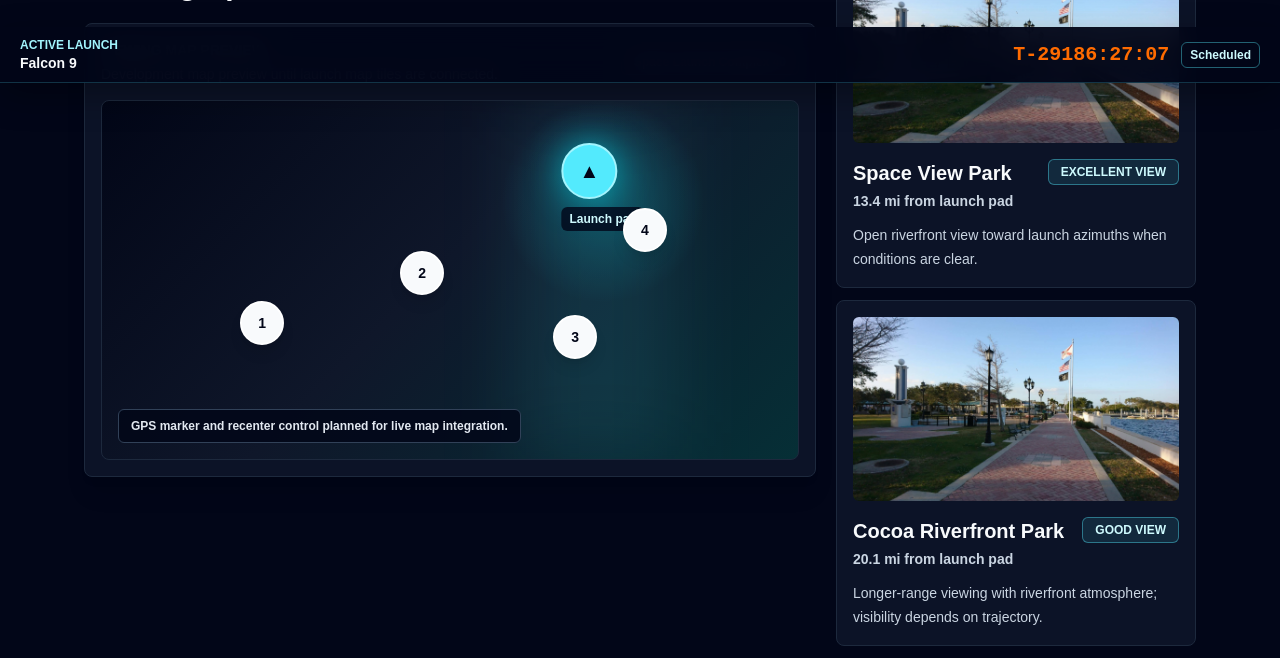
Scenario: LaunchesPage › opens and closes the viewing spot drawer
(page scrolled)
Click the button named "Select viewing spot Space View Park". click: x=262, y=323
box: [240, 301, 284, 345]
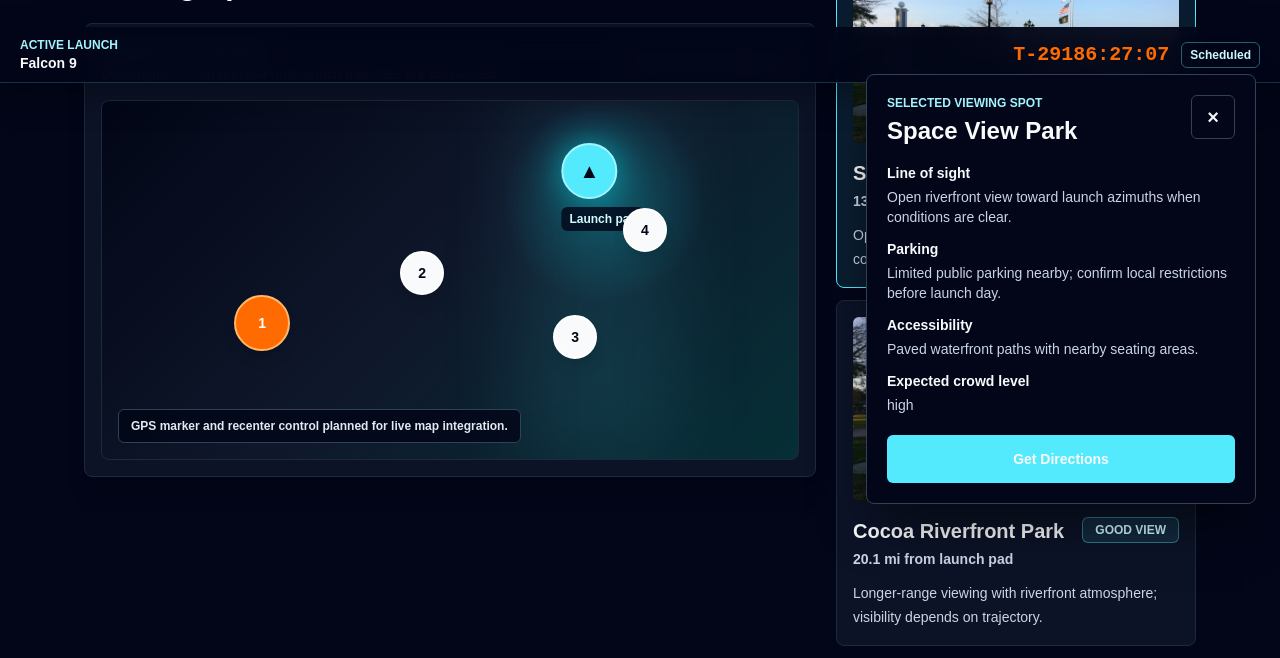
expect the dialog named "Space View Park viewing spot details" is shown: met, box [866, 74, 1256, 504]
Click the button named "Close viewing spot details". click: x=1213, y=117
box: [1191, 95, 1235, 139]
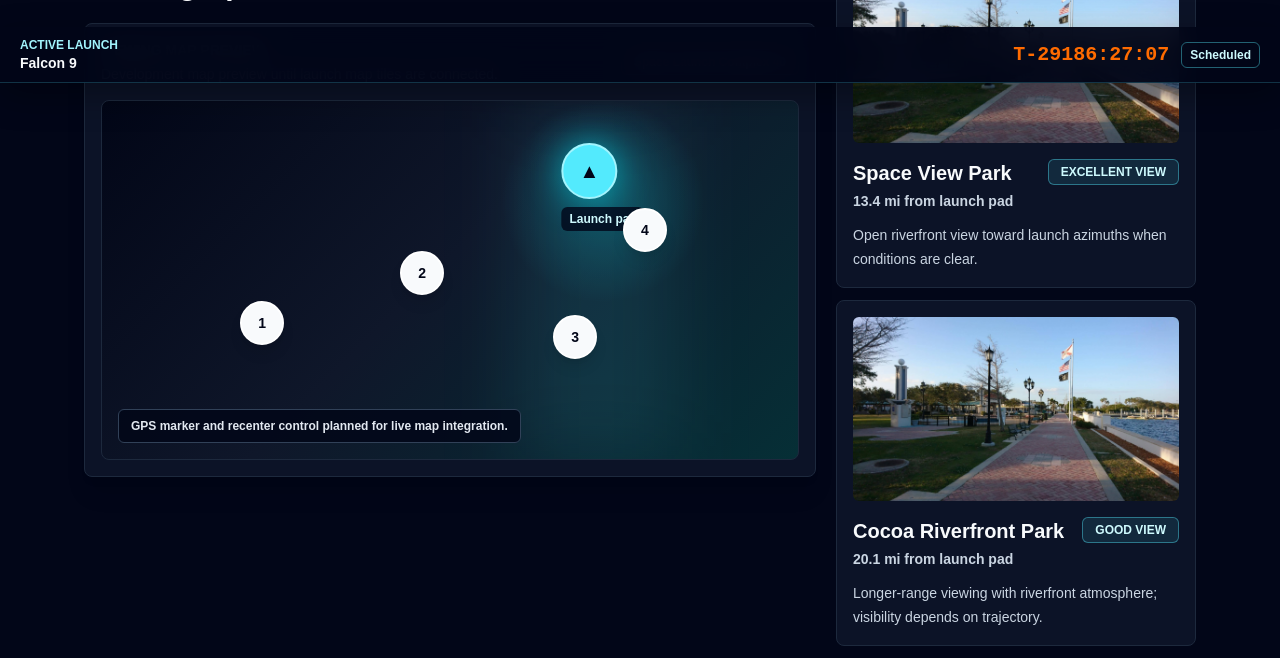
expect the dialog is gone: met
